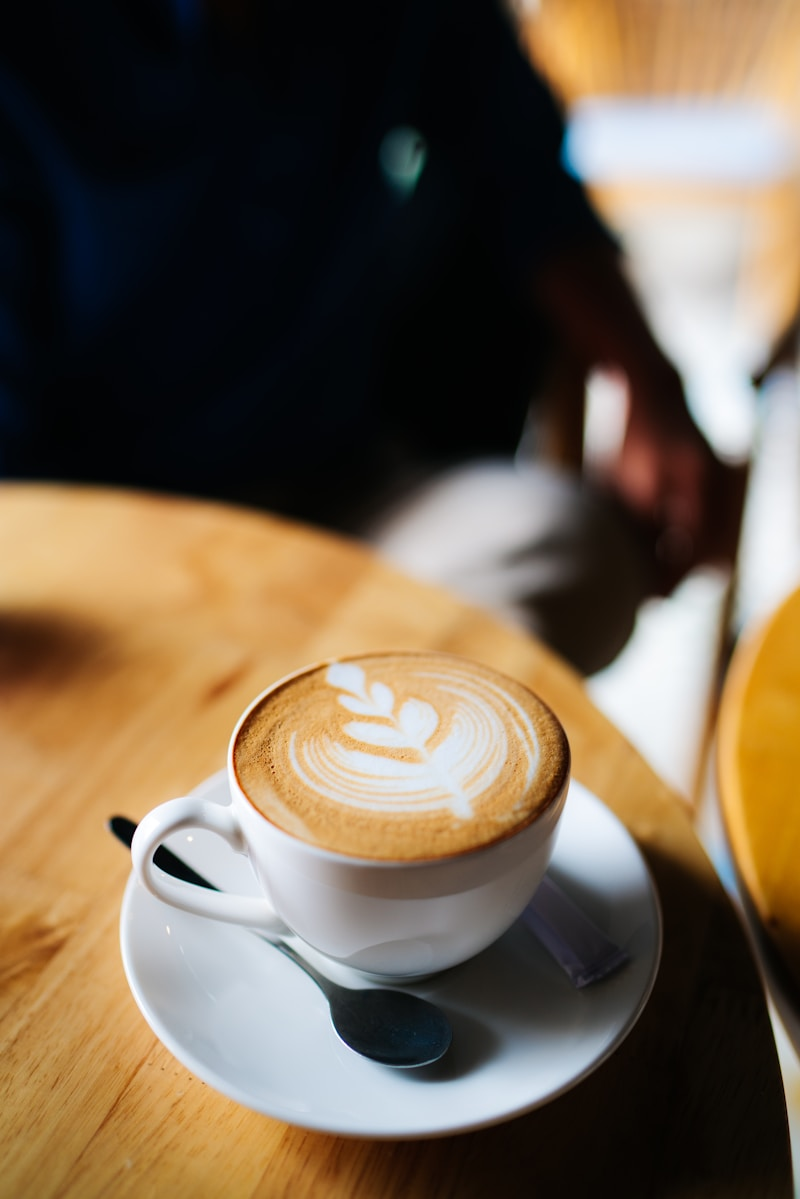cup: (129, 651, 572, 984)
